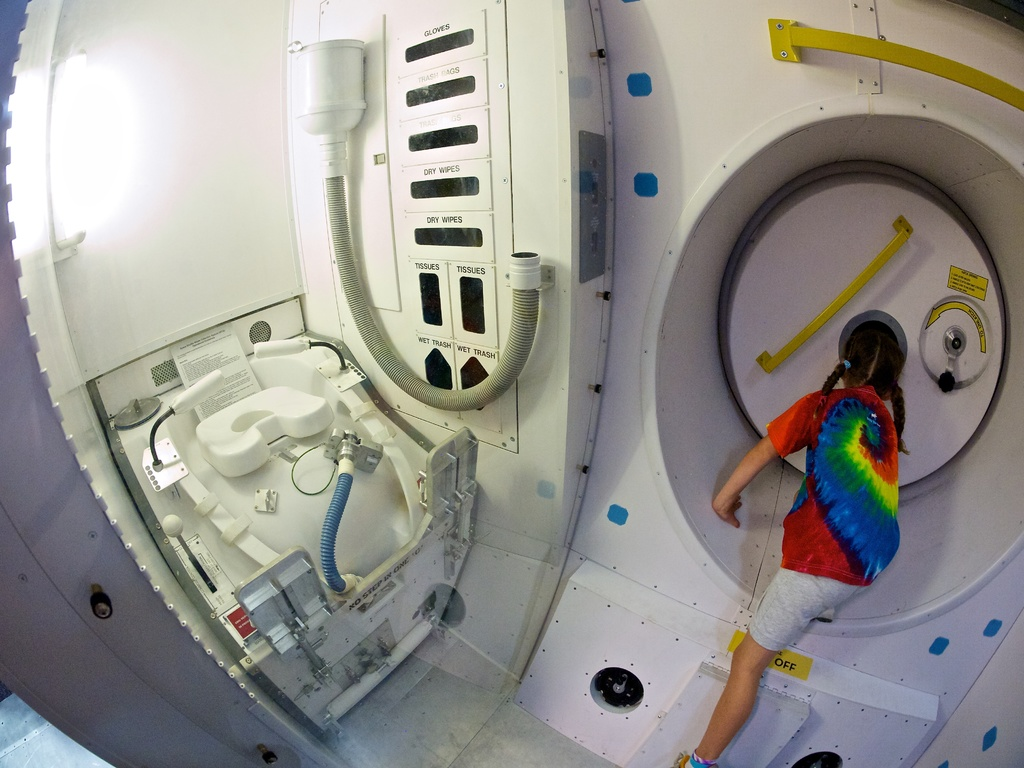Person: (677, 318, 911, 767)
